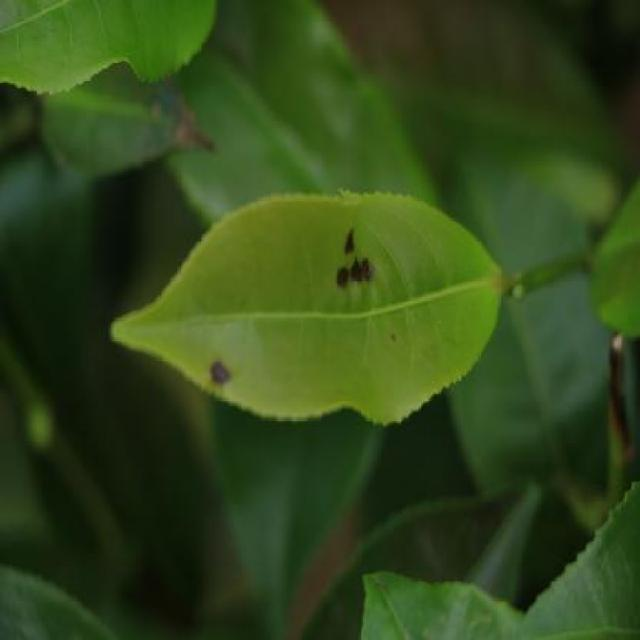Tea Mosquito bug infested leaf: (115, 178, 514, 422)
